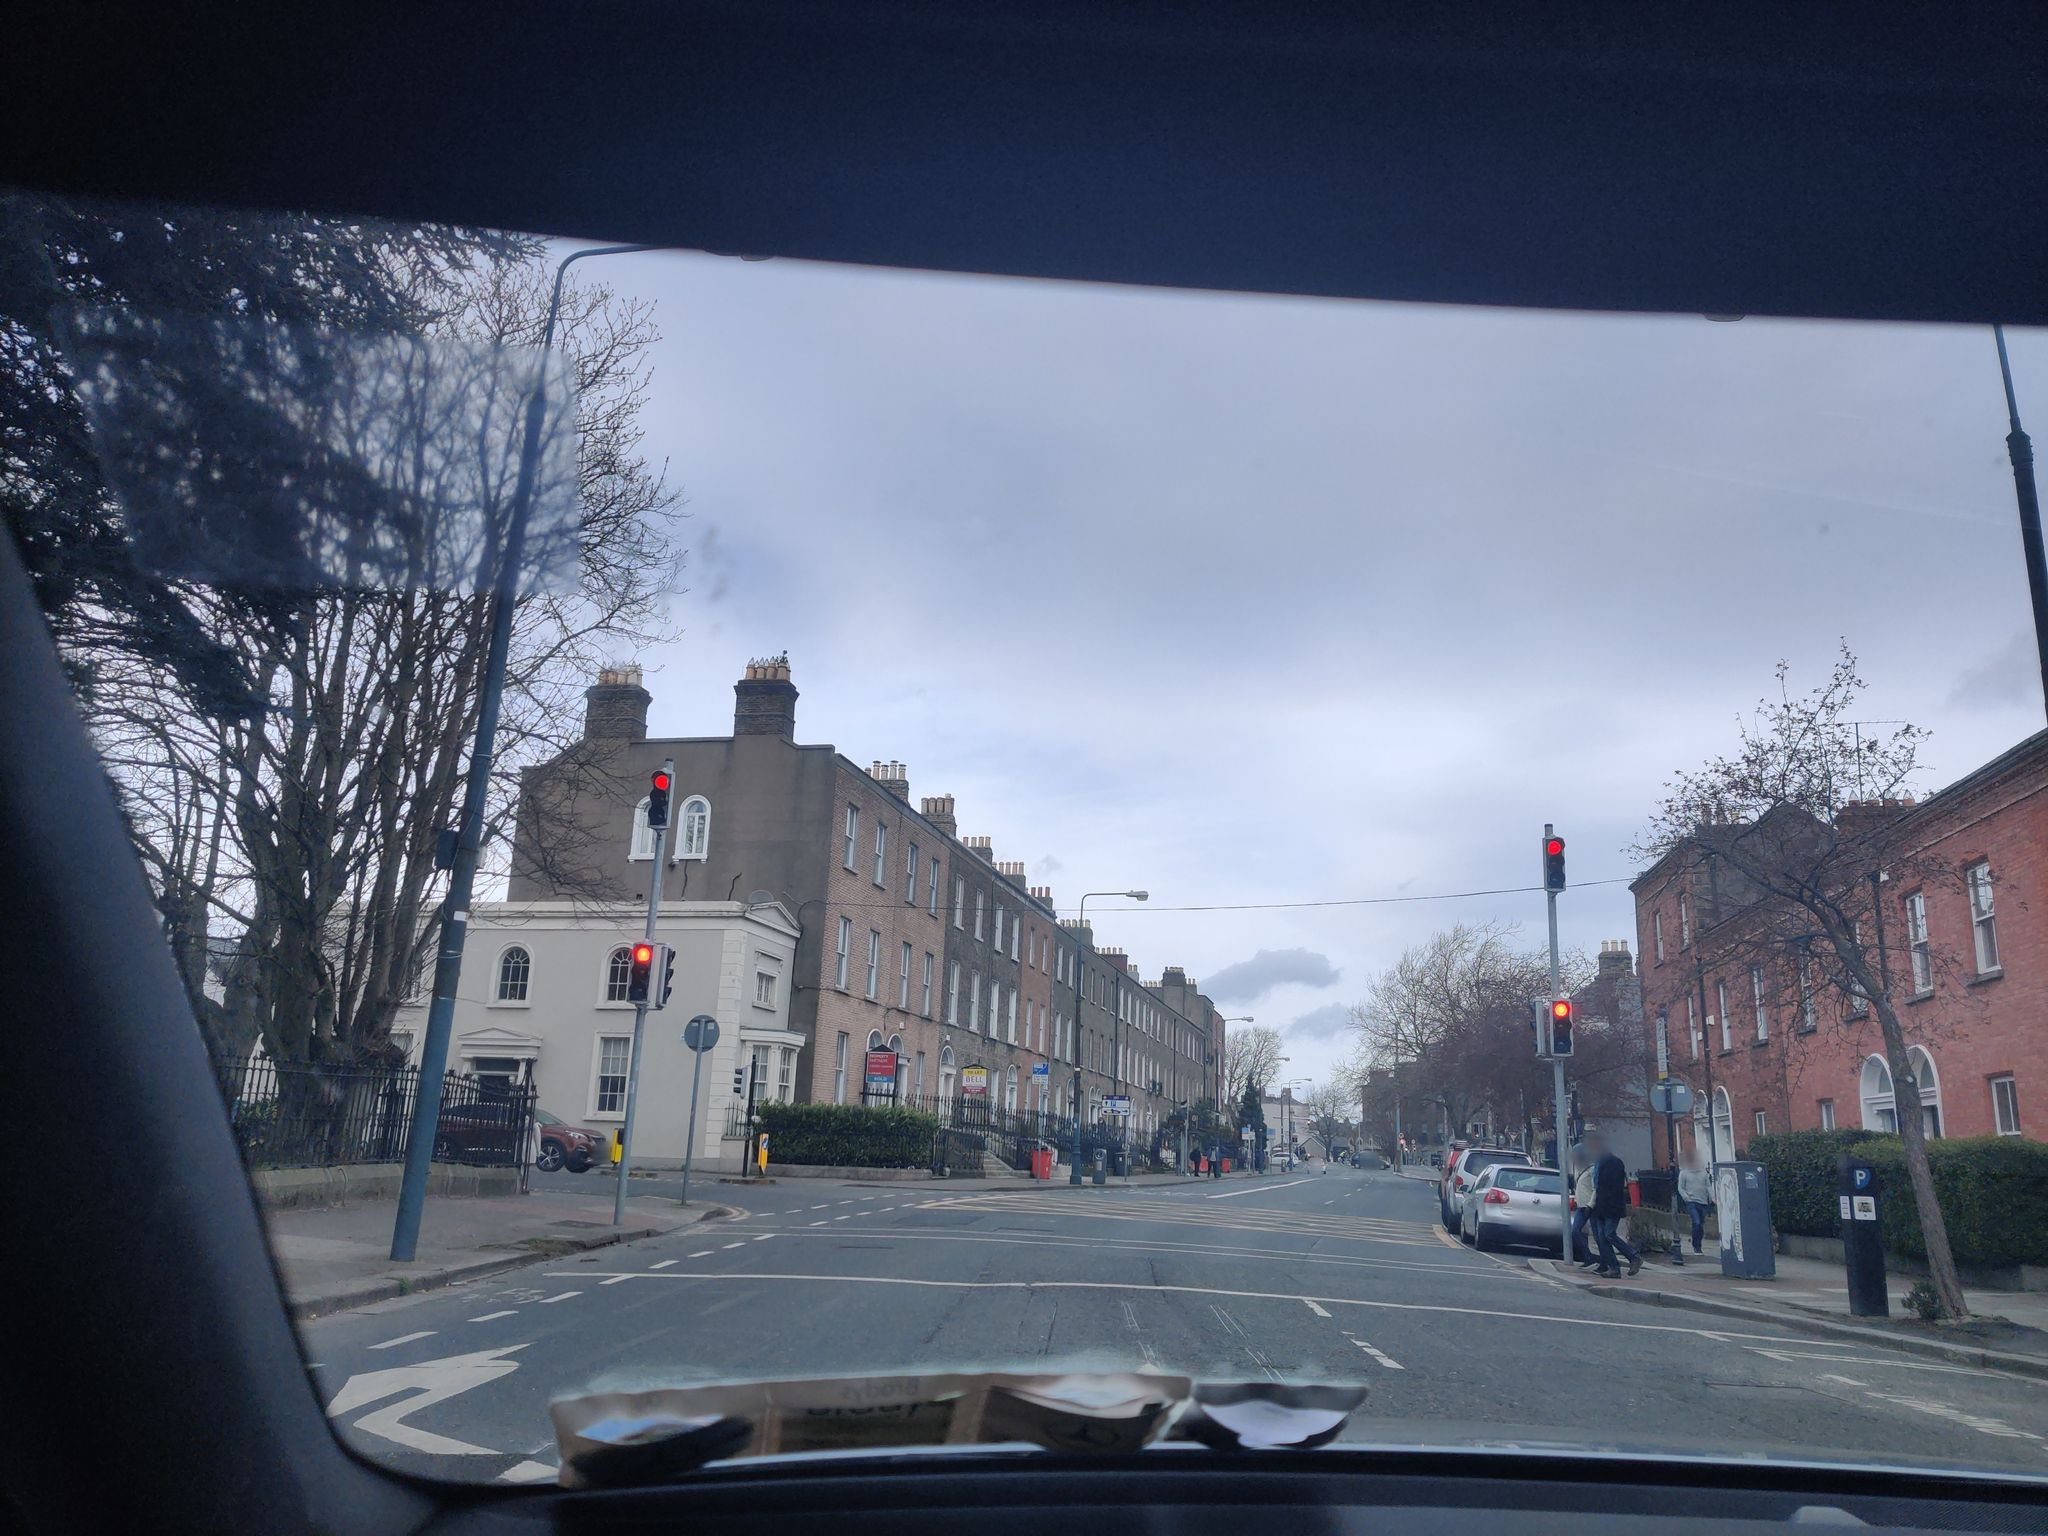property sign: (958, 1049, 993, 1118), (861, 1037, 901, 1087)
